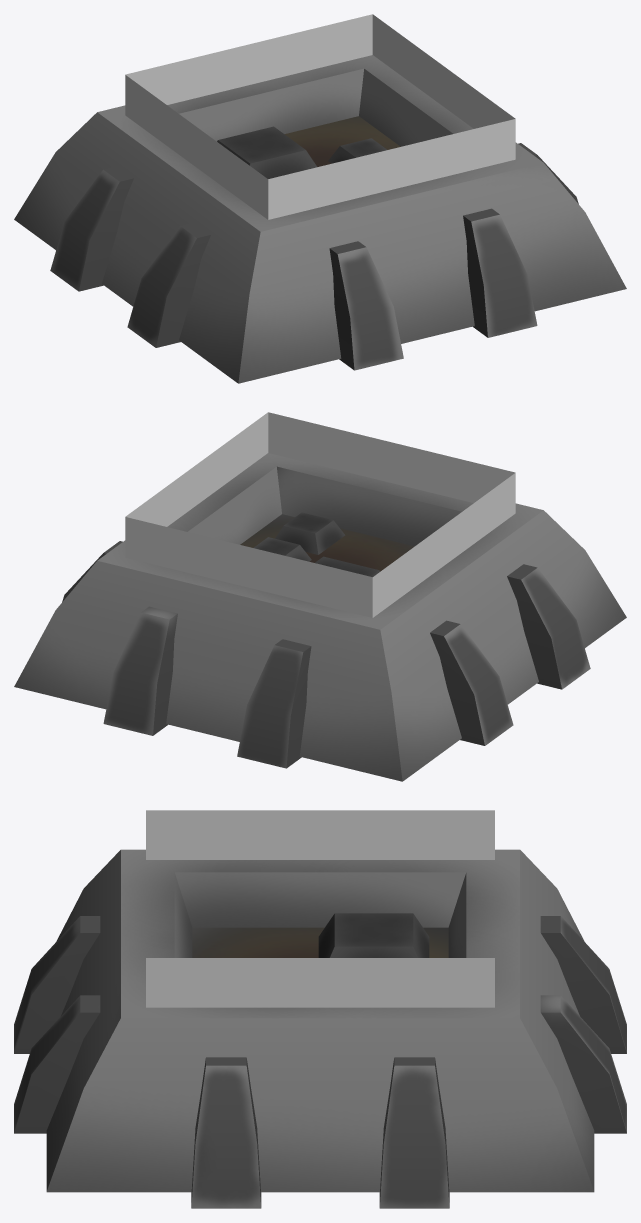
File: wTower.fbx
The picture shows the model from 3 angles, top to bottom: view 1: azimuth 30°, elevation 25°; view 2: azimuth 150°, elevation 25°; view 3: azimuth 270°, elevation 25°; orthographic projection. The views are drawn at different scales.
Parts seen in each view (by area): view 1: Cube; view 2: Cube; view 3: Cube.
Boxes of the visible parts, x1,y1,x2,y2 form: Cube: [14, 14, 626, 383]; Cube: [14, 412, 626, 781]; Cube: [14, 810, 626, 1208].
Size of the model in its own units: 297 by 104 by 297.
Materials: 2 (1 with a texture image).
